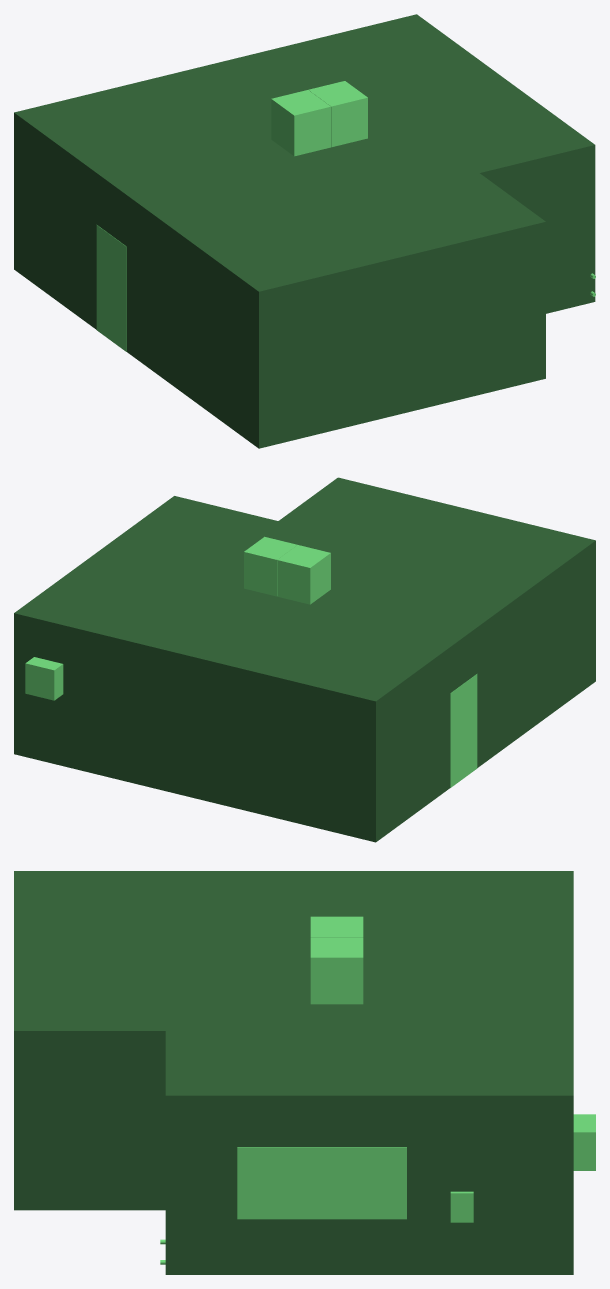
The model's file is lab.glb.
3 views of the same model, one above another, from view 1: azimuth 30°, elevation 25°; view 2: azimuth 150°, elevation 25°; view 3: azimuth 270°, elevation 25° (orthographic). The views are drawn at different scales.
Parts seen in each view (by area): view 1: Room-col, Cube.061, Door; view 2: Room-col, Cube.061, Door, Cube.043; view 3: Room-col, Cube.035, Cube.061, Cube.043, Cube.049.
Part boxes in pixels (x1=…): Room-col: x1=14, y1=14, x2=595, y2=448; Cube.061: x1=271, y1=81, x2=367, y2=156; Door: x1=96, y1=225, x2=126, y2=351; Room-col: x1=14, y1=477, x2=595, y2=842; Cube.061: x1=244, y1=536, x2=330, y2=604; Door: x1=450, y1=674, x2=477, y2=787; Cube.043: x1=25, y1=657, x2=63, y2=700; Room-col: x1=14, y1=871, x2=573, y2=1274; Cube.035: x1=237, y1=1147, x2=406, y2=1219; Cube.061: x1=310, y1=916, x2=363, y2=1004; Cube.043: x1=573, y1=1114, x2=595, y2=1170; Cube.049: x1=450, y1=1191, x2=473, y2=1222.
Size of what is drawn, in the model's own units: 18.96 by 8.84 by 20.59.
